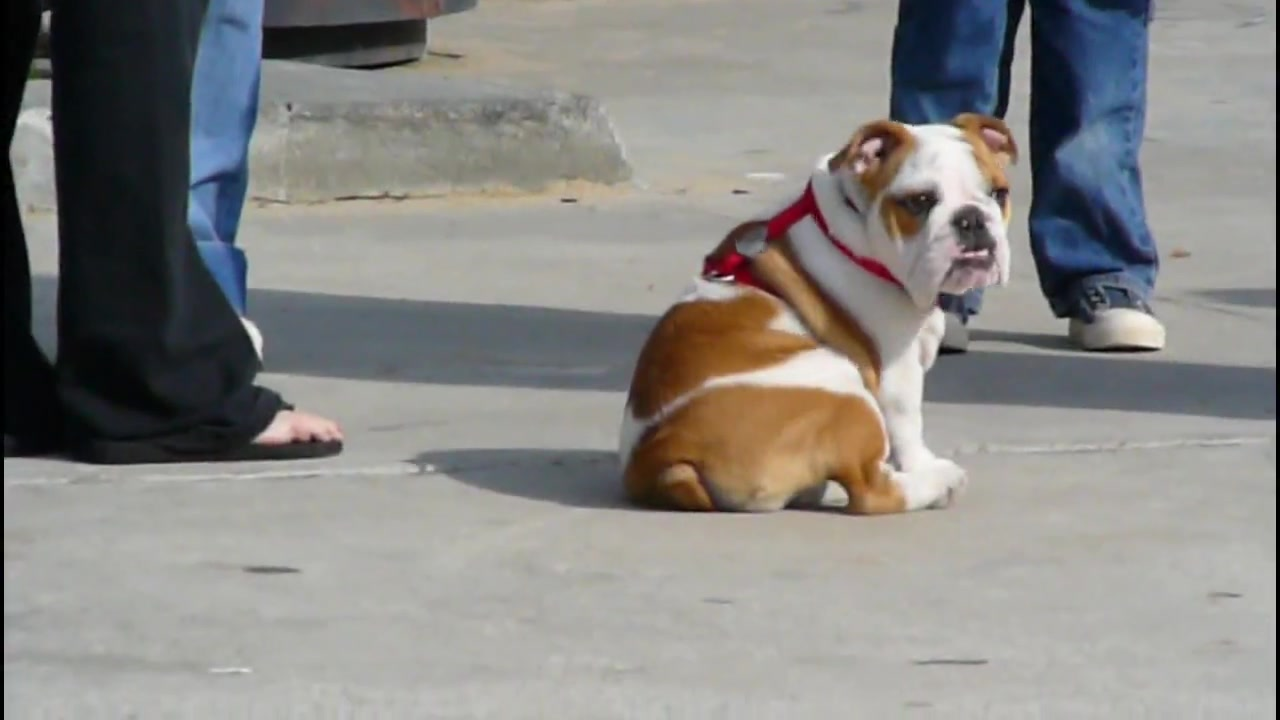dog: (615, 110, 1020, 516)
